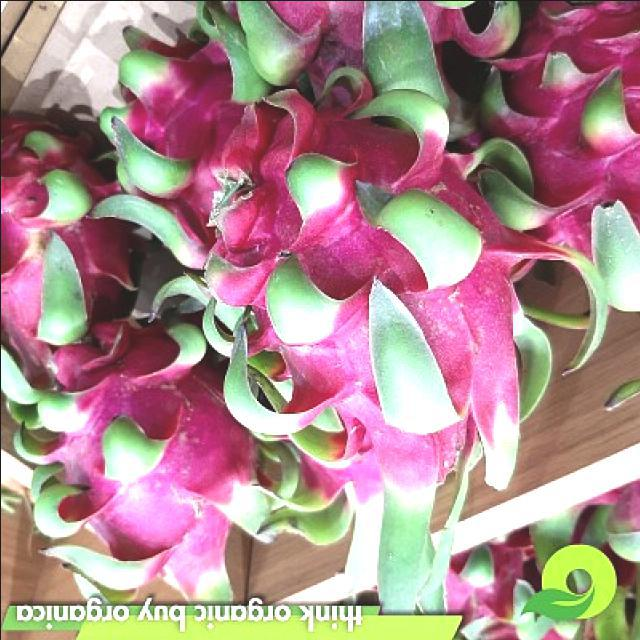do: (205, 106, 543, 518), (38, 330, 278, 610), (505, 1, 639, 310), (2, 125, 148, 384), (118, 21, 262, 271), (226, 1, 486, 105)
